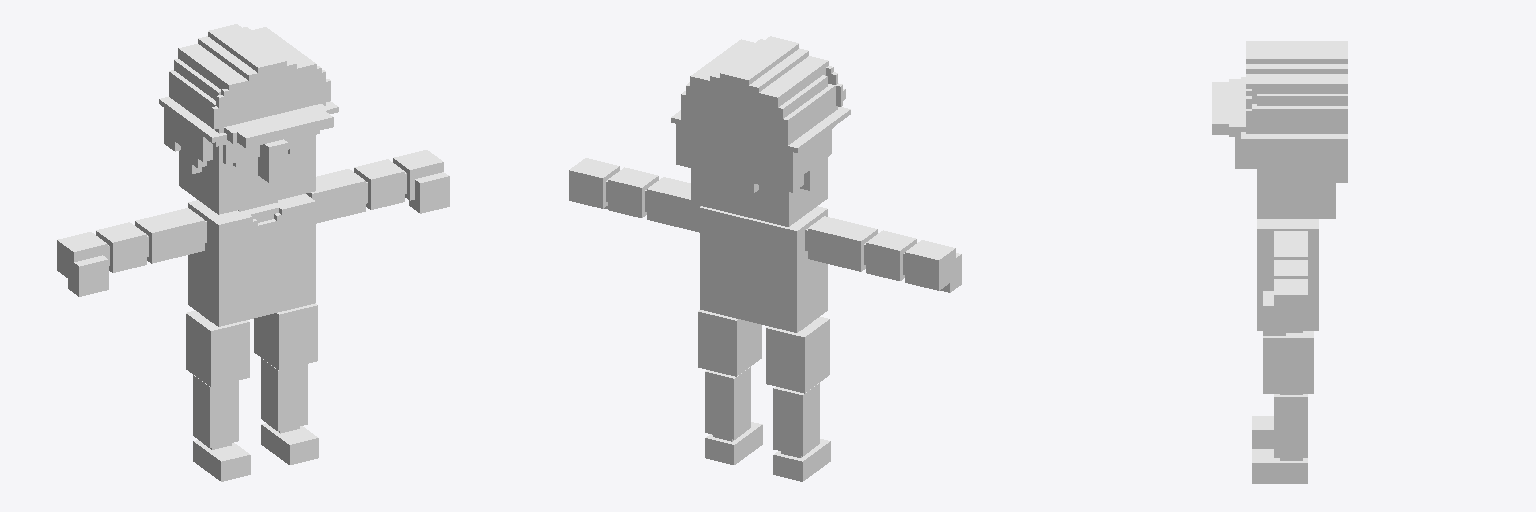
Rendered from architec.obj.
3 renders of one model, left to right at view 1: azimuth 30°, elevation 25°; view 2: azimuth 150°, elevation 25°; view 3: azimuth 270°, elevation 25°, orthographic.
Visible parts, largest first — view 1: architec; view 2: architec; view 3: architec.
Boxes of the visible parts, x1=… form: architec: x1=57, y1=24, x2=449, y2=481; architec: x1=569, y1=36, x2=961, y2=481; architec: x1=1212, y1=41, x2=1347, y2=483.
Size of the model in its own units: 76 by 80 by 24.